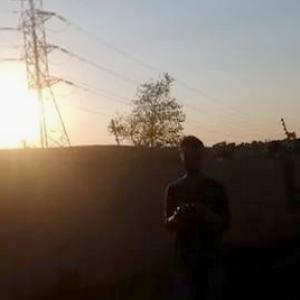follow: (160, 129, 236, 299)
